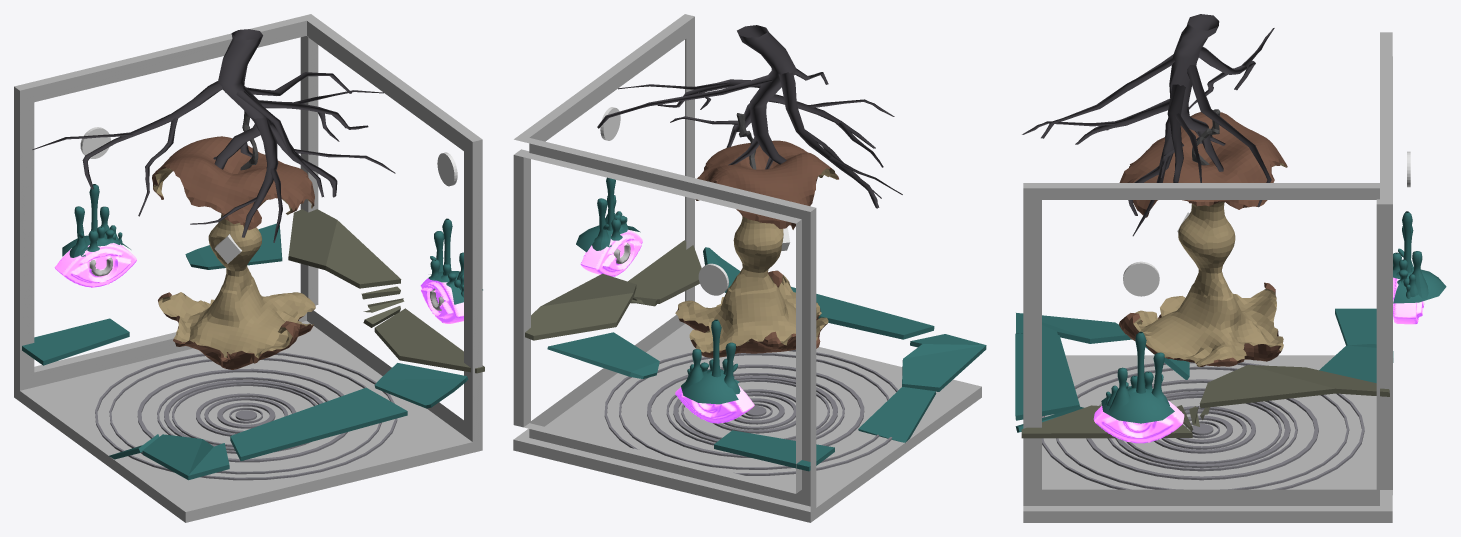
File: text_wutonsence1.fbx
The picture shows the model from 3 angles, left to right: view 1: azimuth 30°, elevation 25°; view 2: azimuth 150°, elevation 25°; view 3: azimuth 270°, elevation 25°; orthographic projection. The views are drawn at different scales.
Visible parts, largest first — view 1: 立方体, 立方体.024, Line002.006, tree, 圆环, 立方体.025, eye_out001.003, eyeman, eyeman.001, eye_out001.001, 柱体, 柱体.002; view 2: 立方体, 立方体.024, Line002.006, 圆环, tree, eyeman, 立方体.025, eyeman.001, eye_out001.001, eye_out001.003, 柱体; view 3: 立方体, Line002.006, 立方体.024, 圆环, tree, eyeman.001, eyeman, eye_out001.001, 立方体.025, 柱体.002, eye_out001.003.
Boxes of the visible parts, x1,y1,x2,y2 form: 立方体: [14, 14, 482, 522]; 立方体.024: [109, 209, 484, 480]; Line002.006: [152, 136, 315, 369]; tree: [32, 29, 395, 242]; 圆环: [95, 352, 397, 480]; 立方体.025: [22, 318, 129, 365]; eye_out001.003: [54, 243, 136, 287]; eyeman: [62, 184, 130, 257]; eyeman.001: [428, 218, 482, 304]; eye_out001.001: [420, 278, 463, 323]; 柱体: [80, 127, 110, 158]; 柱体.002: [437, 152, 457, 186]; 立方体: [513, 14, 981, 522]; 立方体.024: [525, 240, 986, 442]; Line002.006: [675, 140, 838, 357]; 圆环: [604, 349, 898, 475]; tree: [597, 25, 902, 208]; eyeman: [681, 319, 740, 404]; 立方体.025: [714, 430, 834, 471]; eyeman.001: [576, 177, 640, 252]; eye_out001.001: [580, 230, 642, 276]; eye_out001.003: [675, 385, 754, 423]; 柱体: [698, 263, 728, 295]; 立方体: [1023, 32, 1392, 522]; Line002.006: [1119, 112, 1287, 366]; 立方体.024: [1015, 313, 1389, 438]; 圆环: [1042, 361, 1364, 489]; tree: [1022, 14, 1274, 236]; eyeman.001: [1101, 331, 1174, 423]; eyeman: [1393, 211, 1446, 303]; eye_out001.001: [1093, 400, 1184, 443]; 立方体.025: [1335, 308, 1393, 362]; 柱体.002: [1123, 261, 1159, 296]; eye_out001.003: [1393, 277, 1424, 324].
Size of the model in its own units: 1341 by 1307 by 1209.
